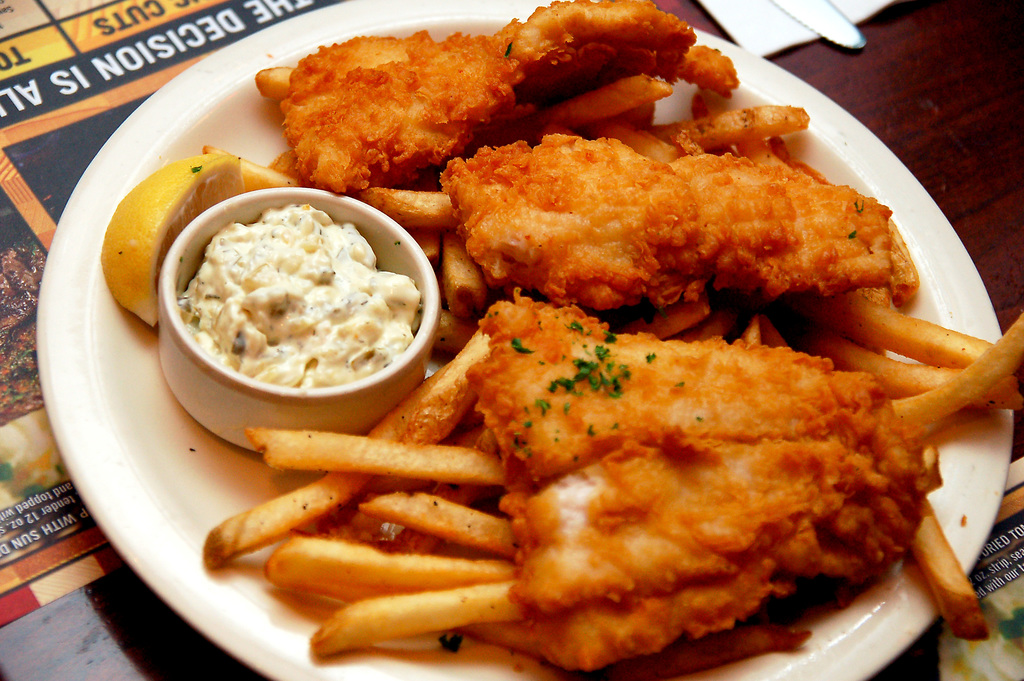French fries: (199, 49, 1023, 680)
